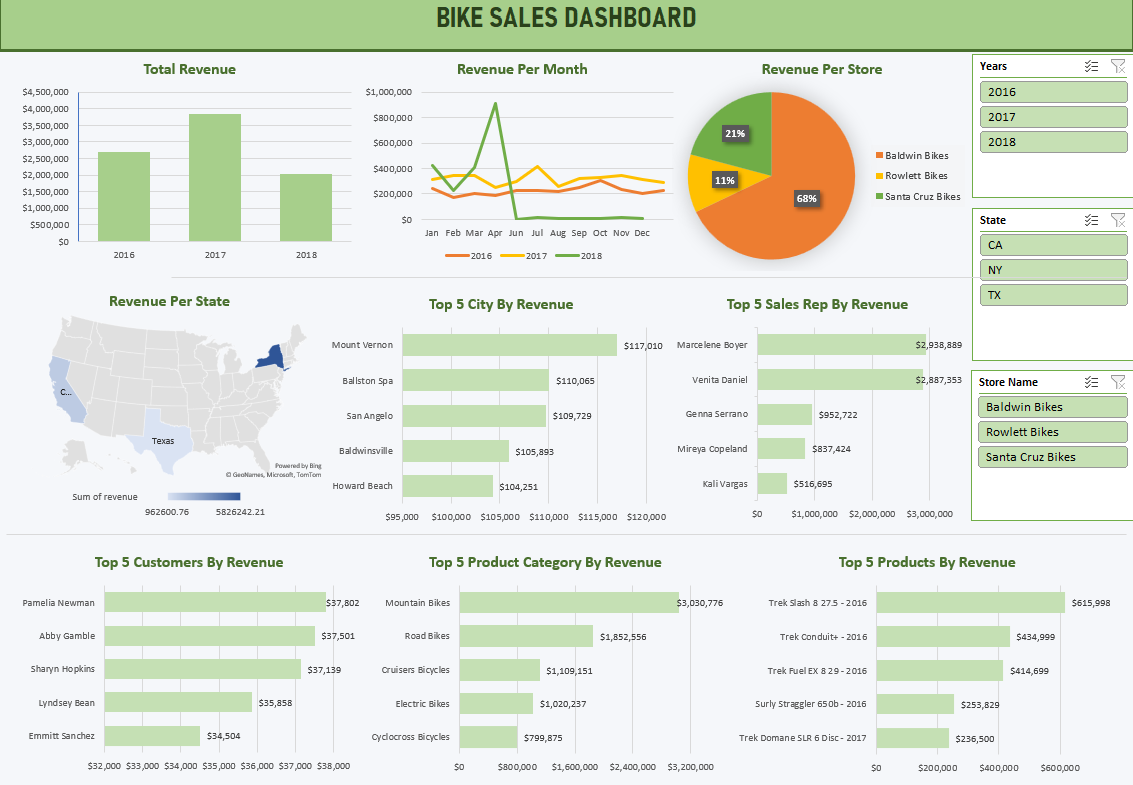

The page's visual inventory and layout, read from the dashboard file:
{"tool":"tableau","page":{"name":"Dashboard 1","canvas":[800,1400],"ordinal":0},"visuals":[{"type":"worksheet","title":"Dashboard Title","mark":"Automatic","box":[14,14,772,48.8]},{"type":"worksheet","title":"Banner","mark":"Automatic","box":[14,62.8,772,160]},{"type":"worksheet","title":"Title","mark":"Automatic","box":[14,222.9,370.2,71]},{"type":"filter","title":"Revenue Per Sales Rep","param":"[federated.1mhob1d15nrg4t1ehjn541q36r57].[yr:order_date:ok]","box":[384.2,222.9,200.9,77]},{"type":"filter","title":"Revenue/State","param":"[federated.1mhob1d15nrg4t1ehjn541q36r57].[none:state:nk]","box":[585.1,222.9,200.9,77]},{"type":"worksheet","title":"Revenue/Year","mark":"Bar","rows":["revenue"],"cols":["order_date"],"box":[14,299.9,386,271.5]},{"type":"worksheet","title":"Revenue/Month","mark":"Automatic","rows":["revenue"],"cols":["order_date"],"box":[400,299.9,386,271.5]},{"type":"legend","title":"Revenue/Month","param":"[federated.1mhob1d15nrg4t1ehjn541q36r57].[yr:order_date:ok]","box":[710,321.1,71,74.4]},{"type":"worksheet","title":"Revenue/State","mark":"Multipolygon","box":[14,571.4,386,271.5]},{"type":"worksheet","title":"Revenue/Store","mark":"Pie","box":[400,571.4,386,271.5]},{"type":"worksheet","title":"Revenue/Category","mark":"Automatic","box":[14,842.9,386,271.5]},{"type":"worksheet","title":"Top 5 Products","mark":"Automatic","rows":["product_name"],"cols":["revenue"],"box":[400,842.9,386,271.5]},{"type":"worksheet","title":"Top 5 Customers","mark":"Automatic","rows":["customers"],"cols":["revenue"],"box":[14,1114.4,386,271.6]},{"type":"worksheet","title":"Revenue Per Sales Rep","mark":"Automatic","rows":["sales_rep"],"cols":["revenue"],"box":[400,1114.4,386,271.6]}]}

Visuals, with their boxes on the page's 800x1400 design canvas (x1, y1, x2, y2). These are canvas units, not pixel positions in the 1133x785 screenshot, which may show the page scaled, cropped or inside an application window:
"Dashboard Title" worksheet: {"left": 14, "top": 14, "right": 786, "bottom": 63}
"Banner" worksheet: {"left": 14, "top": 63, "right": 786, "bottom": 223}
"Title" worksheet: {"left": 14, "top": 223, "right": 384, "bottom": 294}
"Revenue Per Sales Rep" filter: {"left": 384, "top": 223, "right": 585, "bottom": 300}
"Revenue/State" filter: {"left": 585, "top": 223, "right": 786, "bottom": 300}
"Revenue/Year" worksheet (Bar marks): {"left": 14, "top": 300, "right": 400, "bottom": 571}
"Revenue/Month" worksheet: {"left": 400, "top": 300, "right": 786, "bottom": 571}
"Revenue/Month" legend: {"left": 710, "top": 321, "right": 781, "bottom": 396}
"Revenue/State" worksheet (Multipolygon marks): {"left": 14, "top": 571, "right": 400, "bottom": 843}
"Revenue/Store" worksheet (Pie marks): {"left": 400, "top": 571, "right": 786, "bottom": 843}
"Revenue/Category" worksheet: {"left": 14, "top": 843, "right": 400, "bottom": 1114}
"Top 5 Products" worksheet: {"left": 400, "top": 843, "right": 786, "bottom": 1114}
"Top 5 Customers" worksheet: {"left": 14, "top": 1114, "right": 400, "bottom": 1386}
"Revenue Per Sales Rep" worksheet: {"left": 400, "top": 1114, "right": 786, "bottom": 1386}
